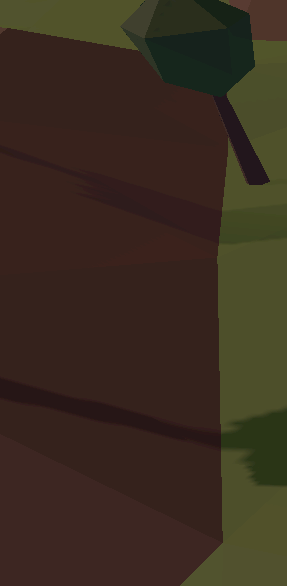tree: (117, 1, 274, 186)
